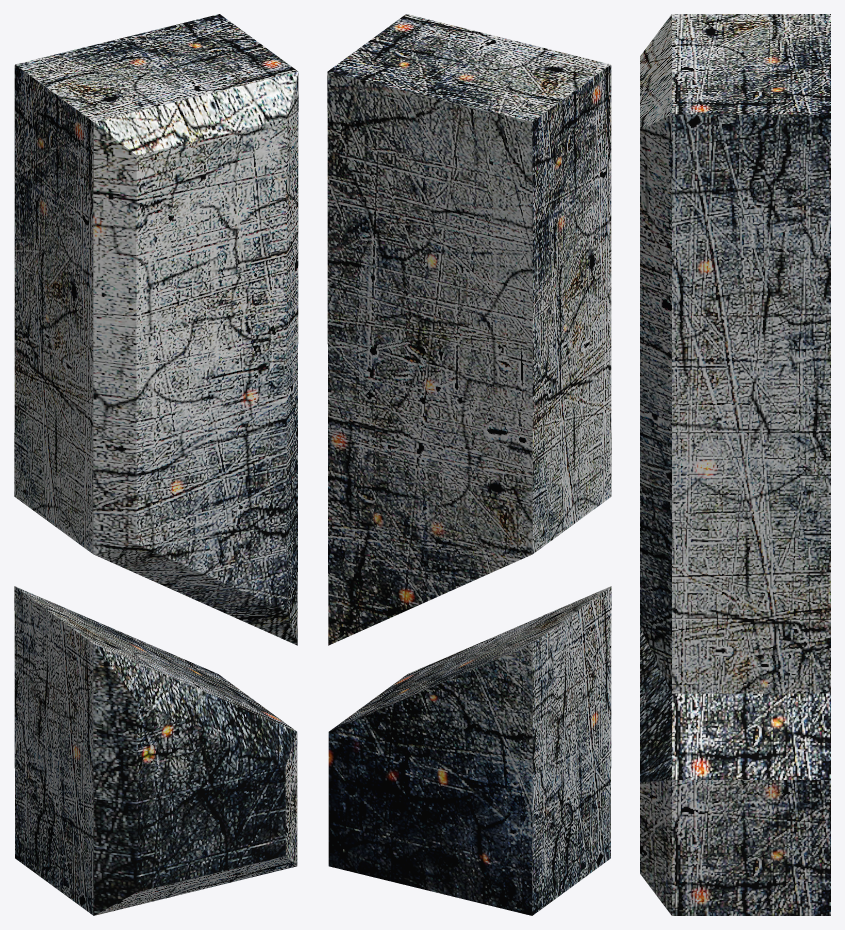
File: Exclamation.FBX
The picture shows the model from 3 angles, left to right: view 1: azimuth 30°, elevation 25°; view 2: azimuth 150°, elevation 25°; view 3: azimuth 270°, elevation 25°; orthographic projection.
Visible parts, largest first — view 1: Exclamation; view 2: Exclamation; view 3: Exclamation.
Part boxes in pixels (box(x1,y1,x2,y2)): Exclamation: box(14, 14, 298, 915); Exclamation: box(327, 14, 611, 915); Exclamation: box(640, 14, 830, 915).
Bounding box in the file's own units: 15.06 × 55.67 × 12.
Materials: 1 (1 with a texture image).
